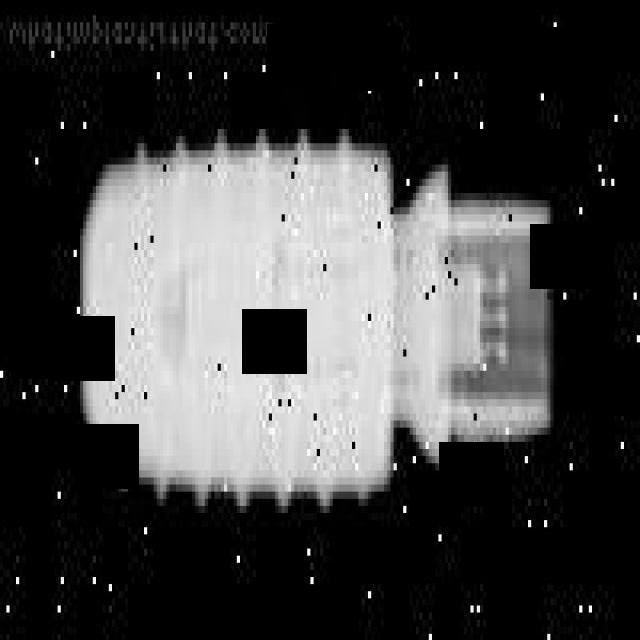Root canal obturation: (77, 142, 554, 505)
